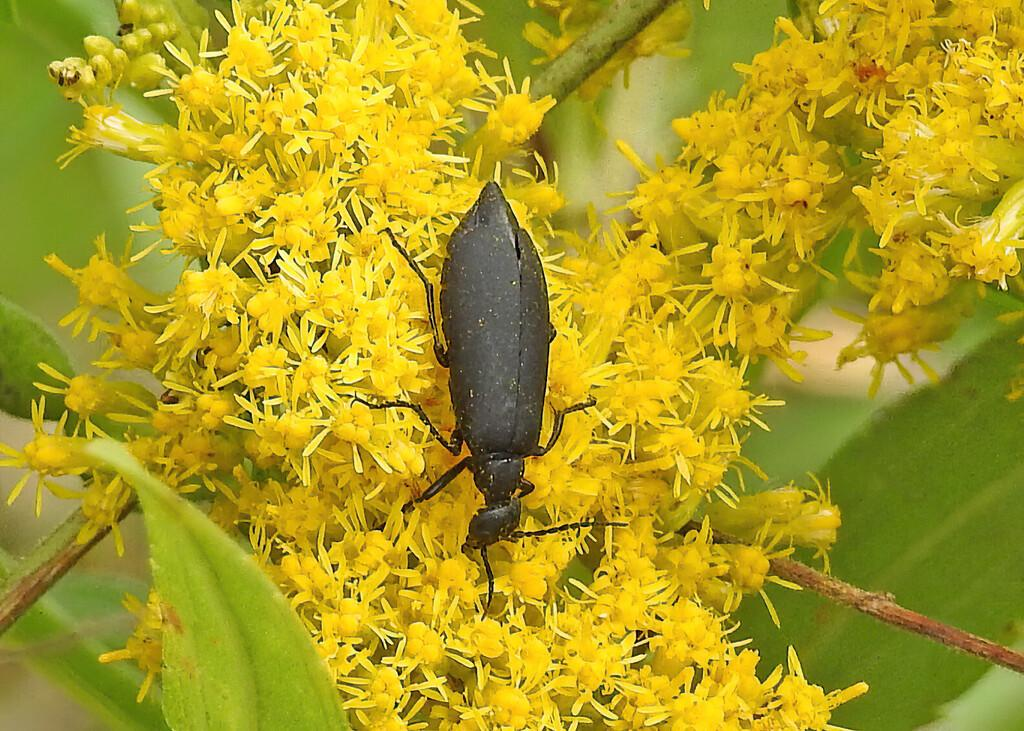blister_beetle: (316, 126, 677, 660)
